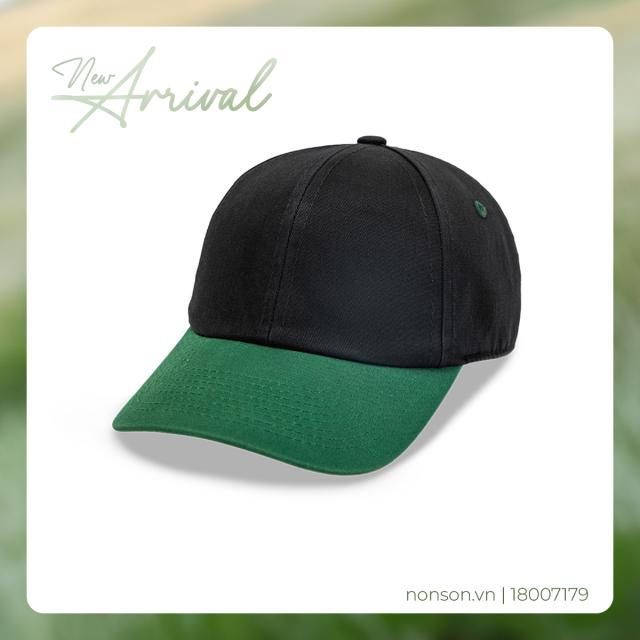Cap: (106, 131, 529, 485)
